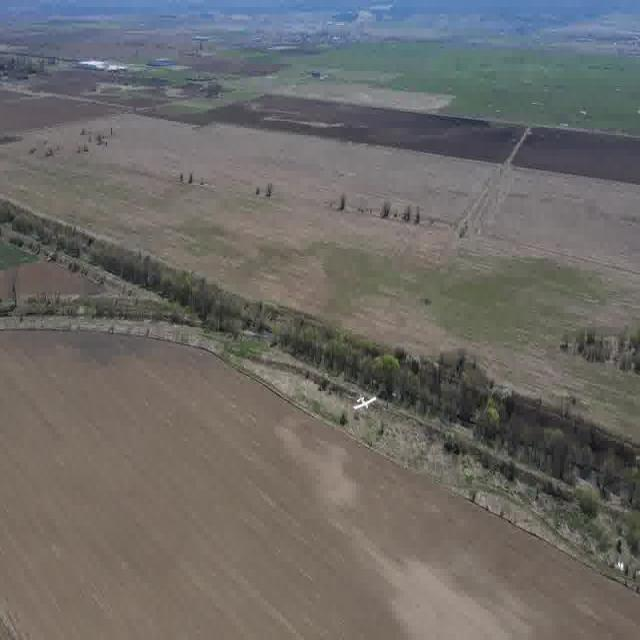iha: (349, 390, 379, 420)
